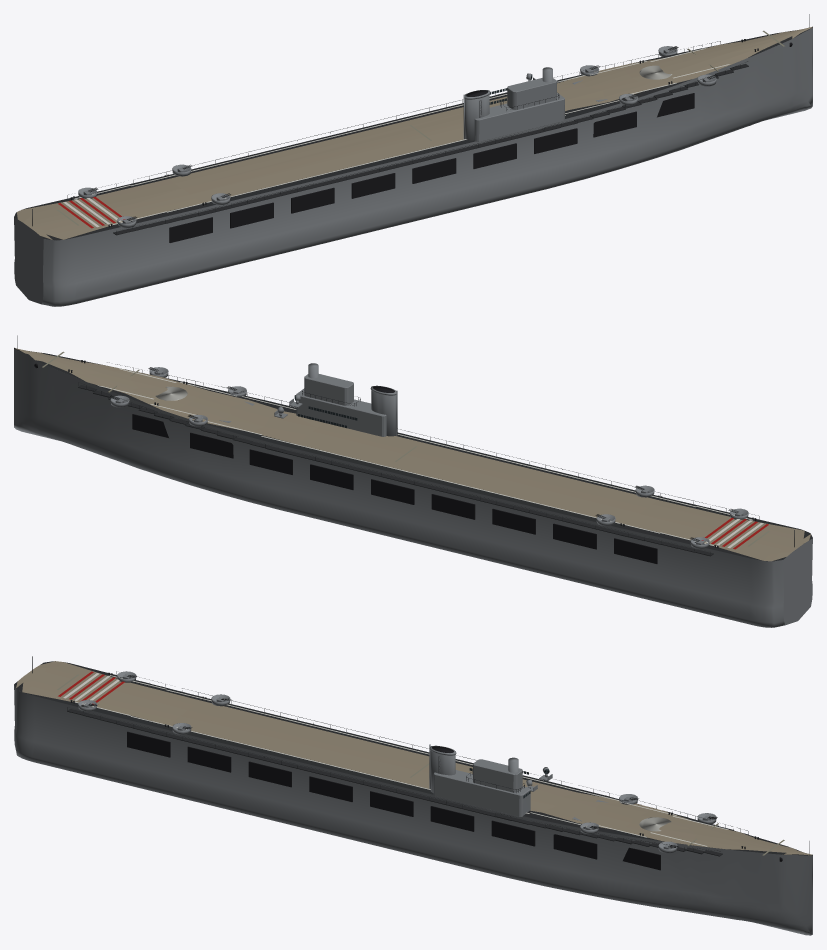
The model's file is soryu_lod.glb.
The picture shows the model from 3 angles, top to bottom: view 1: azimuth 30°, elevation 25°; view 2: azimuth 150°, elevation 25°; view 3: azimuth 330°, elevation 25°; orthographic projection.
Visible parts, largest first — view 1: soryu_lod; view 2: soryu_lod; view 3: soryu_lod.
Part boxes in pixels (box(x1,y1,x2,y2)): soryu_lod: box(14, 14, 812, 306); soryu_lod: box(14, 335, 812, 627); soryu_lod: box(14, 656, 812, 935).
Size of the model in its own units: 228 by 33.49 by 24.72.
